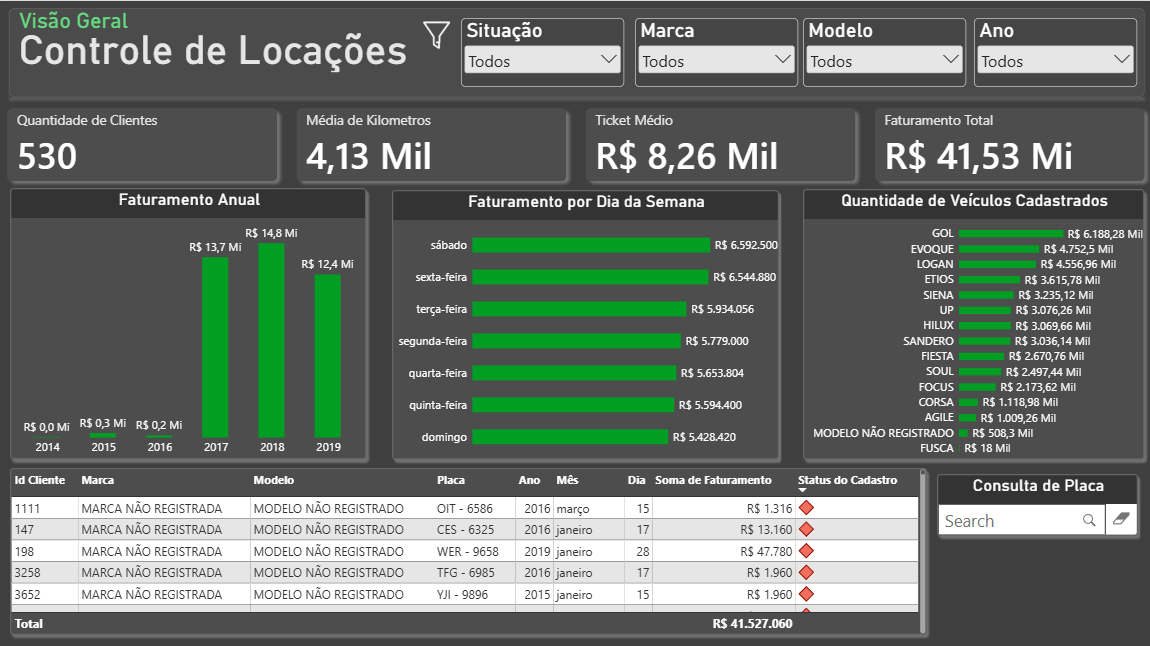

What the dashboard file says about the page in this screenshot:
{"tool":"powerbi","page":{"name":"Relatório de Locação de Veículos","canvas":[1920,1080],"ordinal":0},"visuals":[{"type":"shape","box":[14.5,10.9,1892.9,148.4],"z":0},{"type":"textbox","title":"Controle de Locações","box":[31.2,41.2,651.2,80],"z":1000},{"type":"textbox","title":"Visão Geral","box":[31.2,11.2,498.5,85.4],"z":2000},{"type":"cardVisual","fields":{"Data":["tb_km_processed.qnt_cliente","medidas.md_media_km","medidas.md_ticket_medio","medidas.md_total_faturamento"]},"box":[0,166.7,1920,146.7],"z":6000},{"type":"clusteredBarChart","title":"Quantidade de Veículos Cadastrados","fields":{"Category":["tb_km_gold.Modelo"],"Y":["medidas.md_total_faturamento"]},"box":[1338.8,312.5,568.8,451.2],"z":7000},{"type":"clusteredColumnChart","title":"Faturamento Anual","fields":{"Category":["tb_km_gold.Data de Venda.Variation.Hierarquia de datas.Ano"],"Y":["medidas.md_total_faturamento"]},"box":[16,312,594,452],"z":8000},{"type":"clusteredBarChart","title":"Faturamento por Dia da Semana","fields":{"Category":["tb_km_gold.cc_dia_semana"],"Y":["Sum(tb_km_gold.Faturamento)"]},"box":[653.8,315,645,448.8],"z":9000},{"type":"slicer","title":"a","fields":{"Values":["tb_km_gold.Status do Cadastro"]},"box":[767.7,28.5,272,115],"z":10000},{"type":"image","box":[682.1,15,91.7,81.7],"z":11000},{"type":"slicer","title":"a","fields":{"Values":["tb_km_gold.Modelo"]},"box":[1338.6,28.5,272,115],"z":12000},{"type":"slicer","title":"a","fields":{"Values":["tb_km_gold.cc_ano"]},"box":[1624,28.5,272,115],"z":13000},{"type":"tableEx","fields":{"Values":["tb_km_gold.Id Cliente","tb_km_gold.Marca","tb_km_gold.Modelo","tb_km_gold.Placa","tb_km_gold.Data de Venda.Variation.Hierarquia de datas.Ano","tb_km_gold.Data de Venda.Variation.Hierarquia de datas.Mês","tb_km_gold.Data de Venda.Variation.Hierarquia de datas.Dia","Sum(tb_km_gold.Faturamento)","tb_km_gold.Status do Cadastro"]},"box":[16.7,778.3,1528.3,278.3],"z":14000},{"type":"textFilter25A4896A83E0487089E2B90C9AE57C8A","title":"Consulta de Placa","fields":{"field":["tb_km_gold.Placa"]},"box":[1561.7,788.3,335,103.3],"z":15000},{"type":"slicer","title":"a","fields":{"Values":["tb_km_gold.Marca"]},"box":[1057.7,28.5,272,115],"z":16000}]}

Visuals, with their boxes in screenshot pixels (x1, y1, x2, y2), scaled from the page's 1920x1080 canvas onto the 1150x646 screenshot:
shape: 9:7:1142:95
"Controle de Locações" textbox: 19:25:409:72
"Visão Geral" textbox: 19:7:317:58
cardVisual - tb_km_processed.qnt_cliente x medidas.md_media_km: 0:100:1149:187
"Quantidade de Veículos Cadastrados" clusteredBarChart: 802:187:1143:457
"Faturamento Anual" clusteredColumnChart: 10:187:365:457
"Faturamento por Dia da Semana" clusteredBarChart: 392:188:778:457
"a" slicer: 460:17:623:86
image: 409:9:463:58
"a" slicer: 802:17:965:86
"a" slicer: 973:17:1136:86
tableEx - tb_km_gold.Id Cliente x tb_km_gold.Marca: 10:466:925:632
"Consulta de Placa" textFilter25A4896A83E0487089E2B90C9AE57C8A: 935:472:1136:533
"a" slicer: 634:17:796:86
